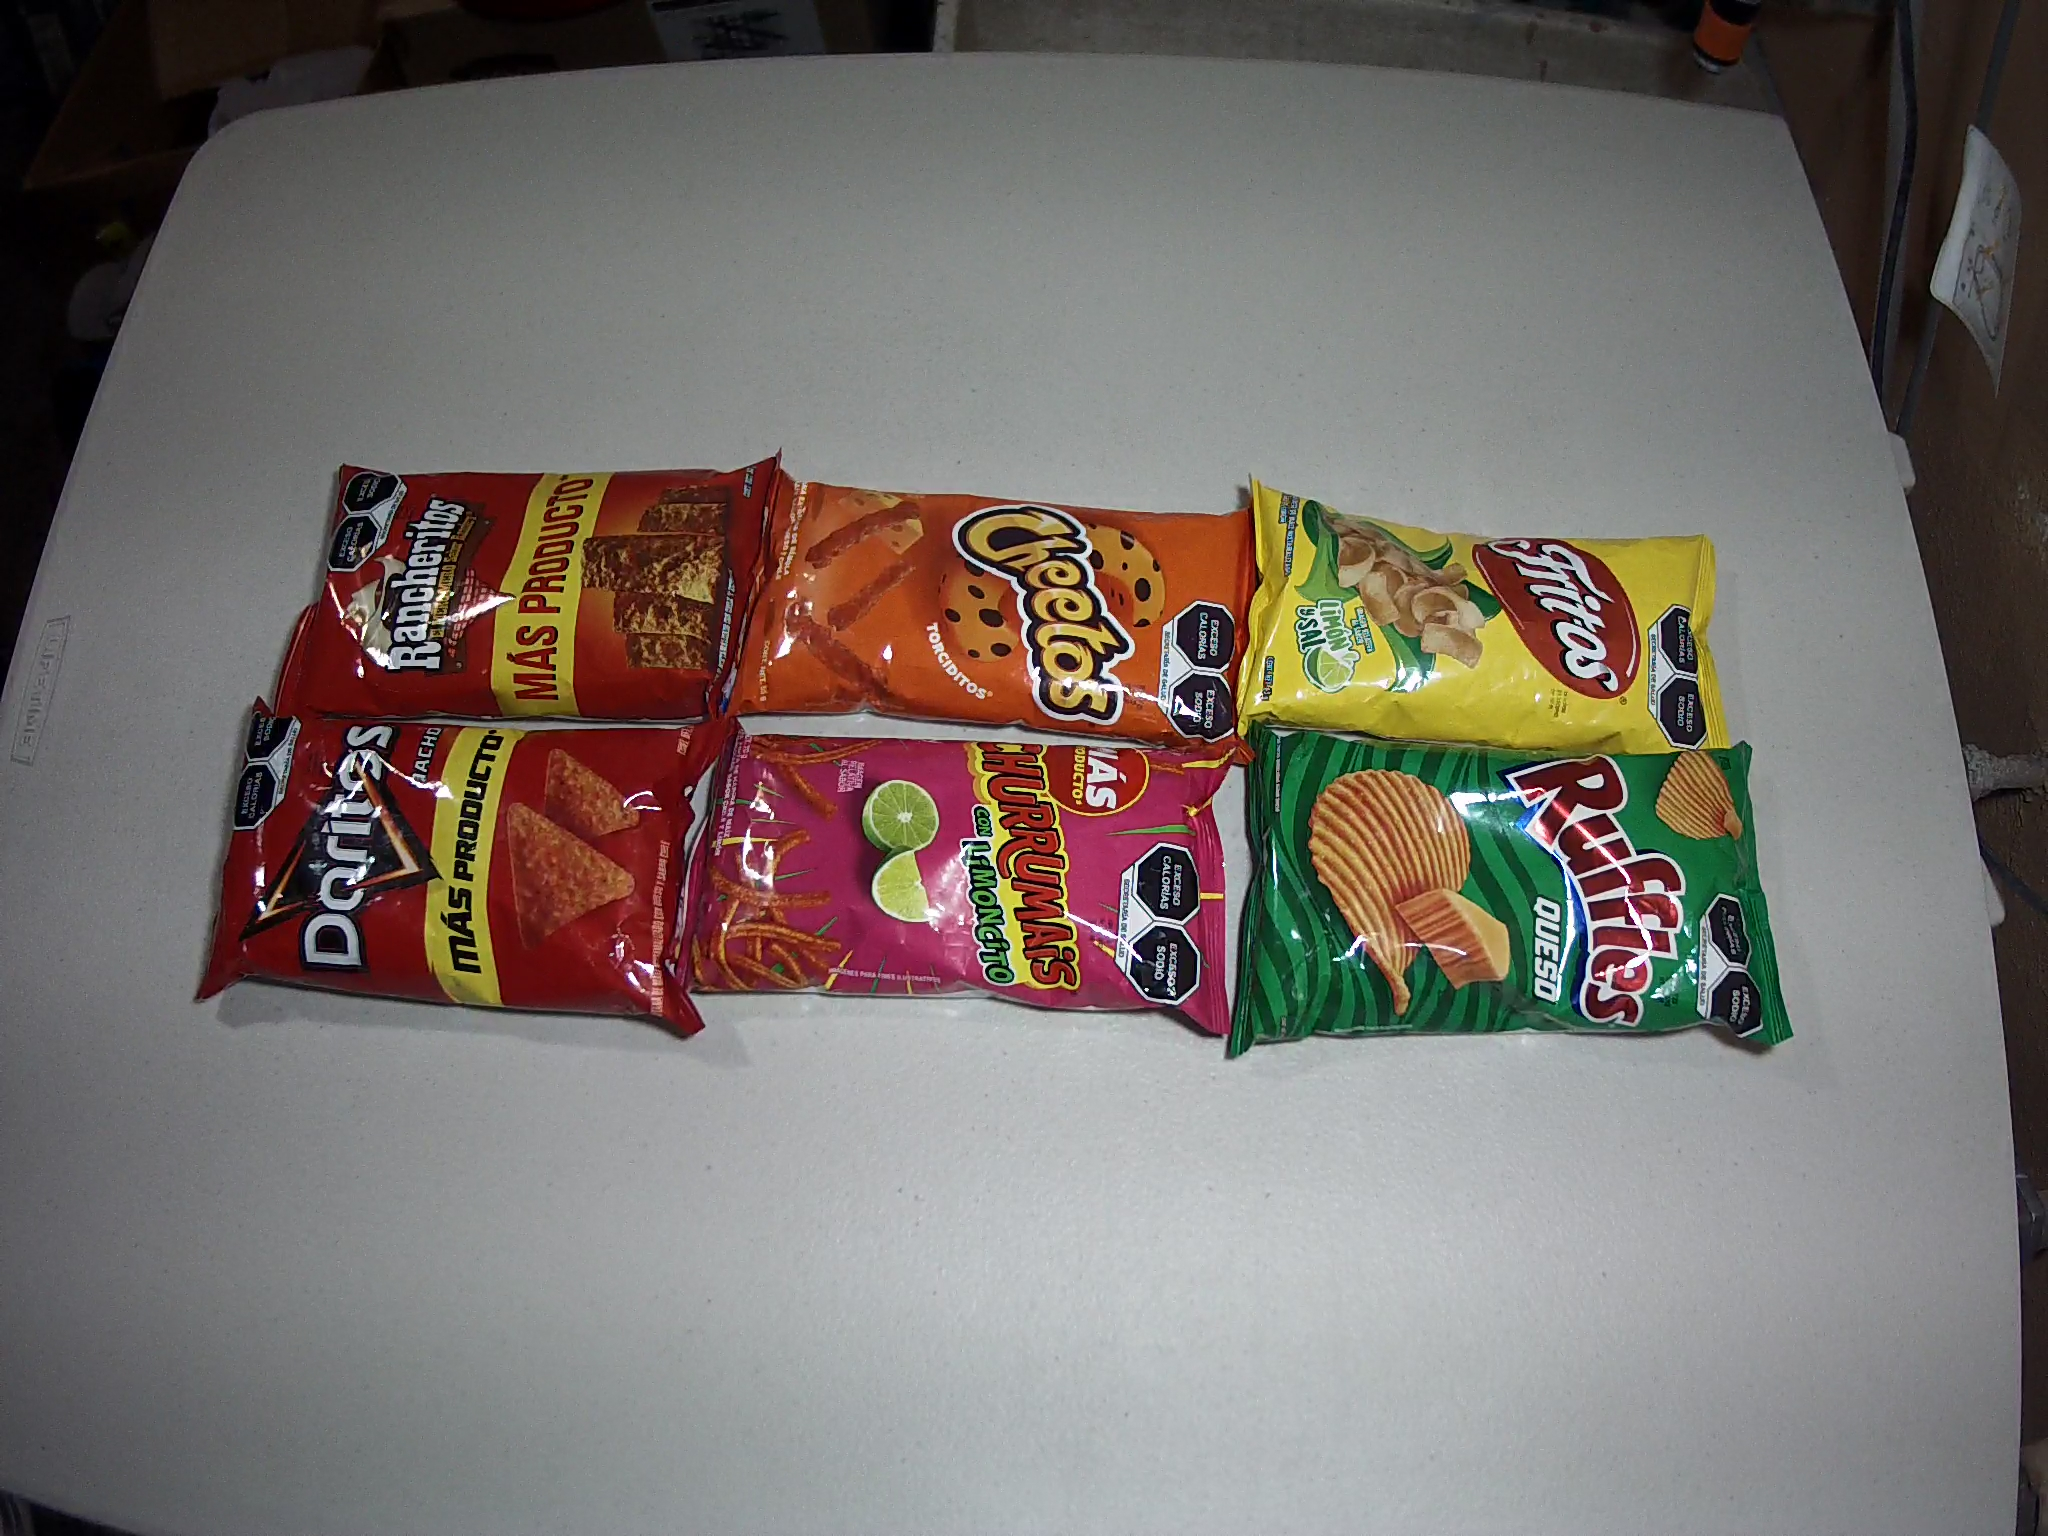CheetosTorciditos_55_F: (739, 474, 1255, 737)
Churrumais_70_F: (685, 736, 1242, 1041)
DoritosN_61_F: (194, 699, 706, 1044)
FritosSalLimon_65_F: (1238, 482, 1717, 750)
Rancheritos_58_F: (277, 453, 756, 721)
RufflesQ_48_F: (1230, 728, 1796, 1054)
